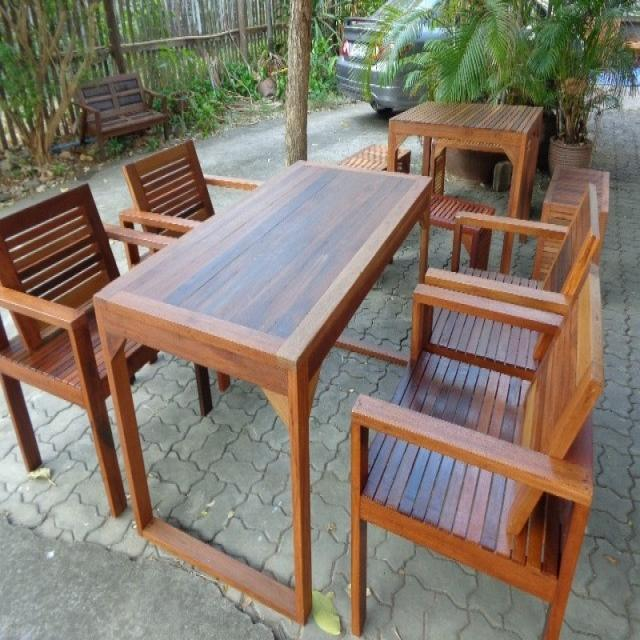table: (88, 154, 426, 366), (391, 75, 551, 166)
